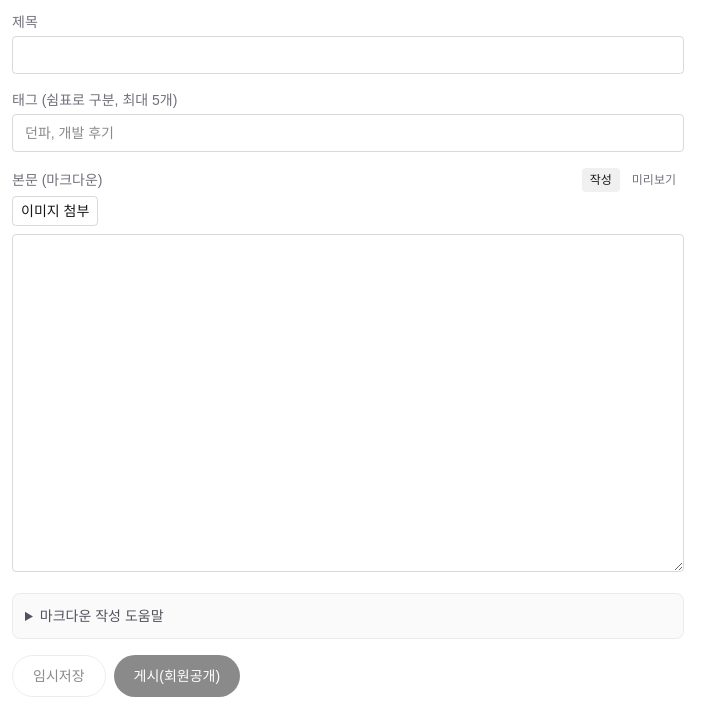
PostEditor 미리보기 › 미리보기 탭이 본문 마크다운을 렌더하고 작성 패널은 숨김
In the text box labelled "본문 (마크다운)": (348,403) [12,234,684,572], type "# 미리보기제목"
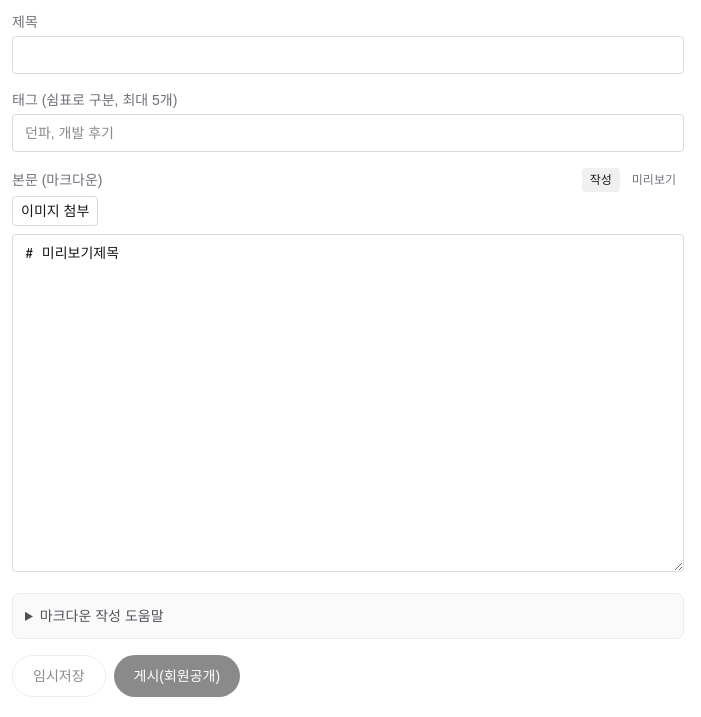
Click the tab "미리보기": (654,180) [624,168,684,192]
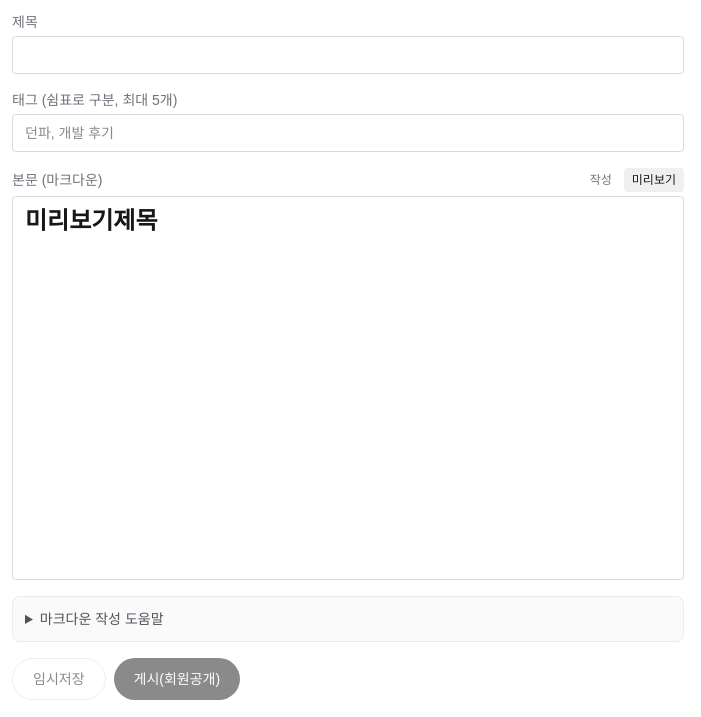
Result: the heading "미리보기제목" is shown at [25,207,158,234]
